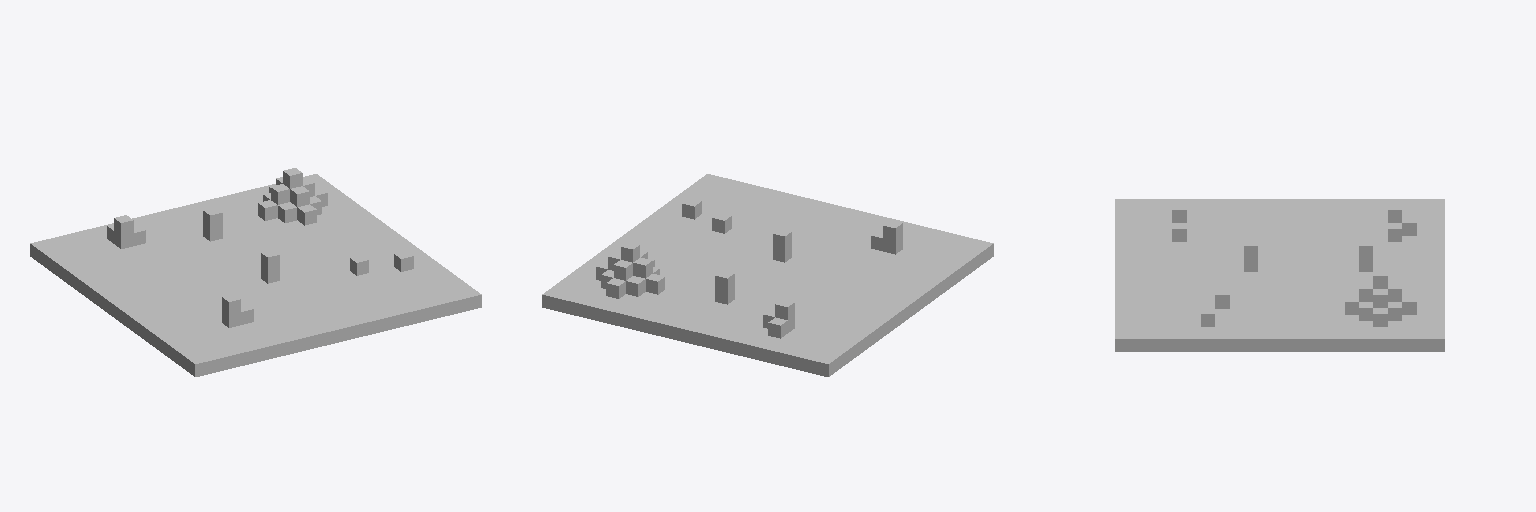
Rendered from Cave Tile 4.obj.
3 views of the same model, side by side, from view 1: azimuth 30°, elevation 25°; view 2: azimuth 150°, elevation 25°; view 3: azimuth 270°, elevation 25° (orthographic).
Visible parts, largest first — view 1: object 1; view 2: object 1; view 3: object 1.
Part boxes in pixels (x1,y1,x2,y2): object 1: (30,168,481,376); object 1: (542,174,993,376); object 1: (1115,199,1444,351).
Bounding box in the file's own units: 2.3 × 0.4 × 2.3.